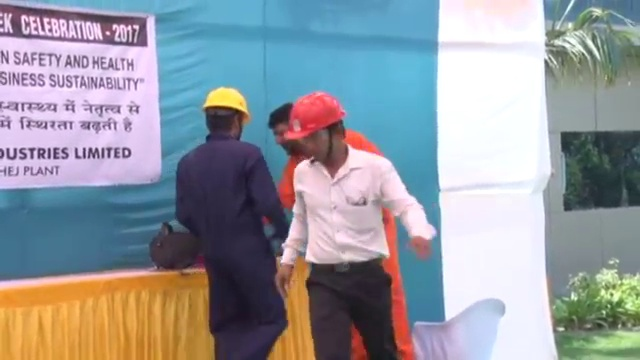helmet: (283, 91, 347, 141), (201, 86, 252, 122)
helmet_off: (270, 101, 297, 157)
helmet_on: (282, 90, 352, 171), (198, 84, 253, 143)
person: (272, 90, 438, 360), (174, 84, 286, 360)
